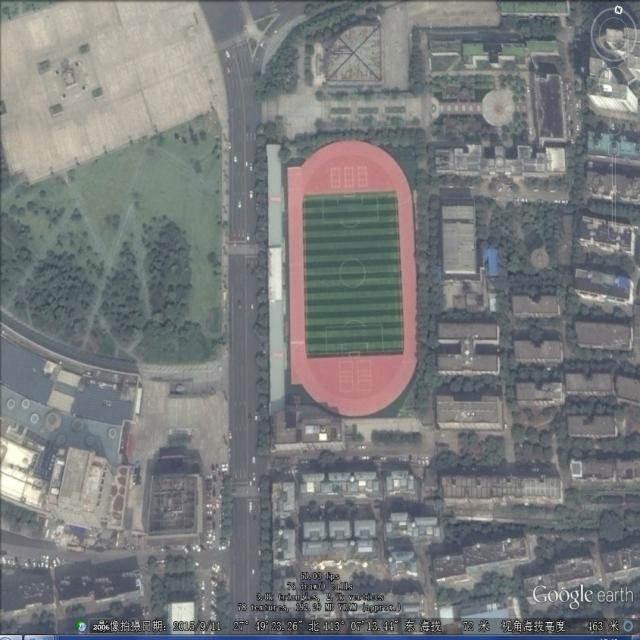playground: (285, 137, 422, 421)
